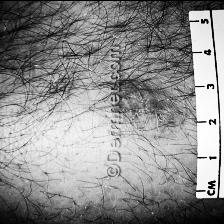Toxin: (127, 68, 177, 148)
